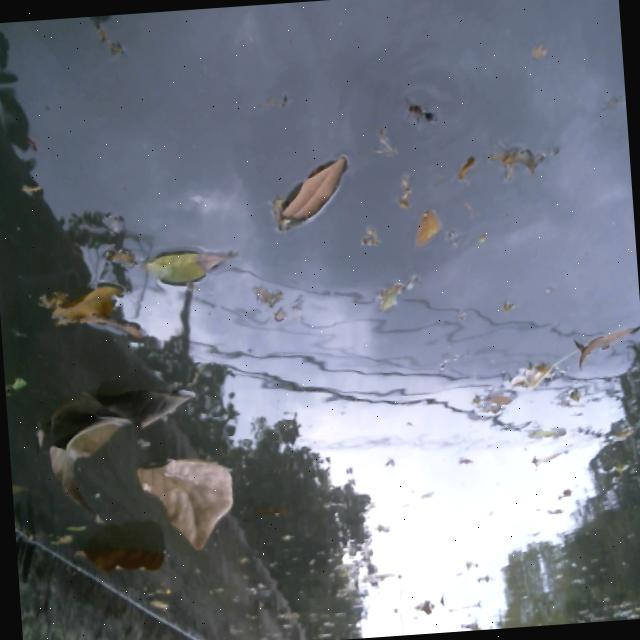Big-leaf: (44, 361, 203, 515), (128, 427, 255, 551), (29, 260, 142, 349), (80, 535, 179, 579)
Small-leaf: (256, 138, 348, 240), (565, 305, 640, 380), (134, 237, 235, 288), (409, 201, 456, 257), (375, 267, 424, 316), (142, 591, 178, 618), (42, 530, 77, 557), (3, 367, 34, 397), (10, 476, 27, 511)
